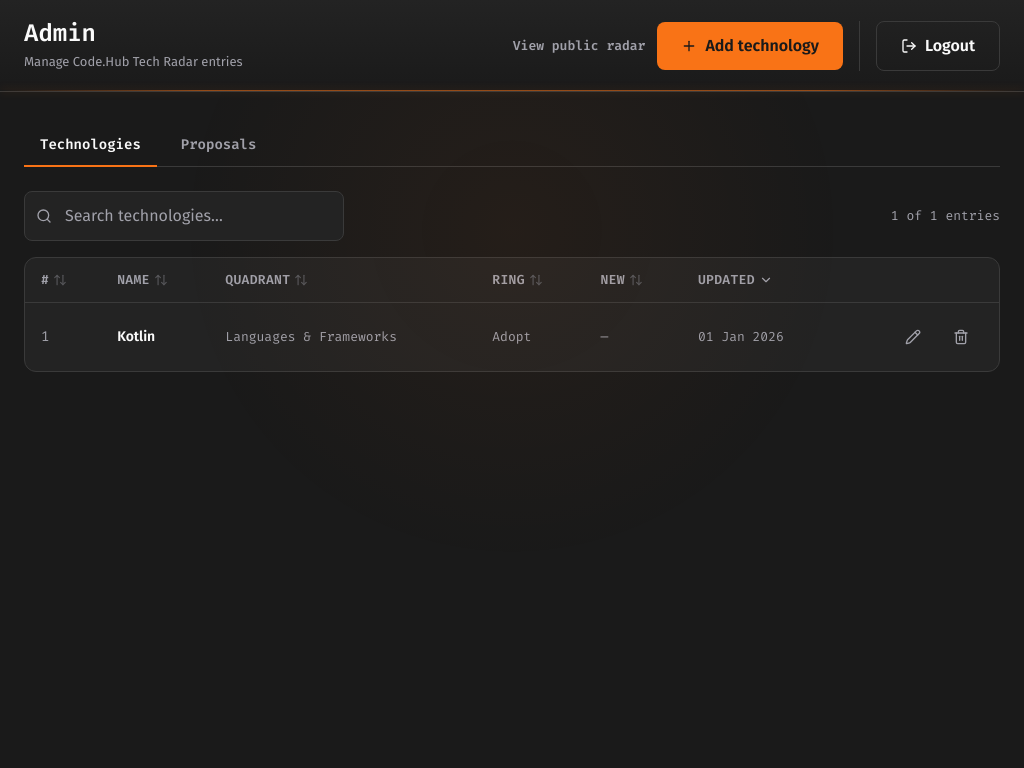
Scenario: AdminPage entry management › edits an entry pre-filled and reflects the change after refetch
Expected: the text "Kotlin" is shown, [101, 302, 209, 371]
Click the button named "Edit Kotlin" at [913, 337], box [891, 315, 935, 359]
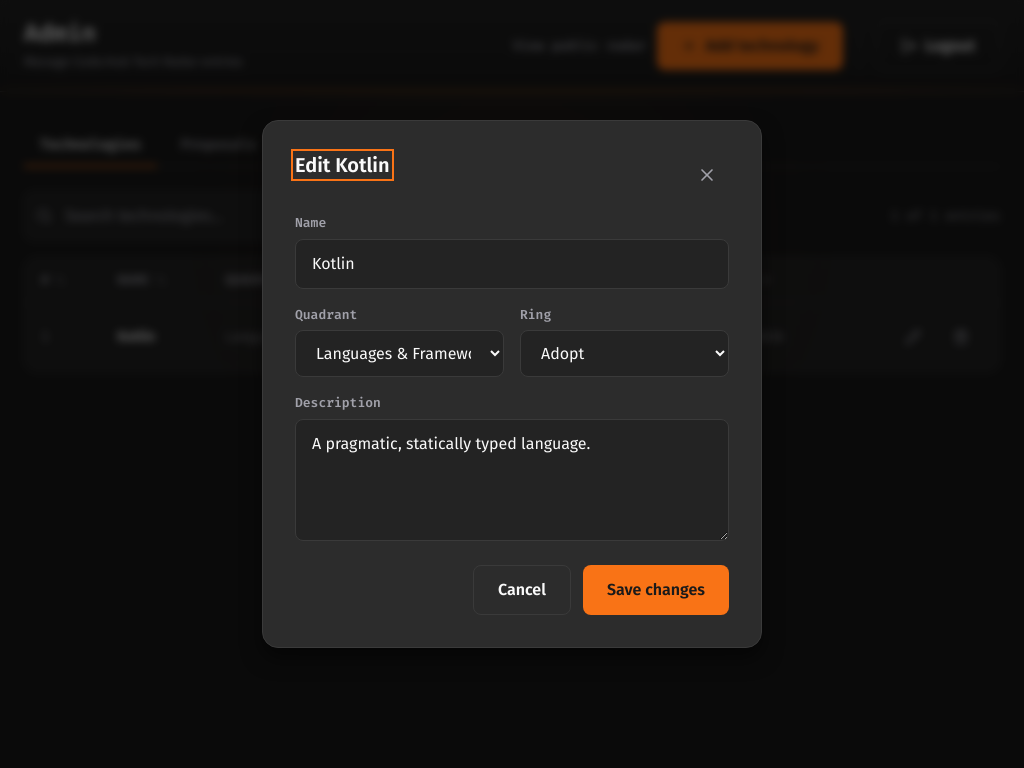
Now the field labelled "Name" holds "Kotlin", box [295, 239, 729, 289]
Select "Trial" in the dropdown labelled "Ring" at [624, 354], box [520, 330, 729, 377]
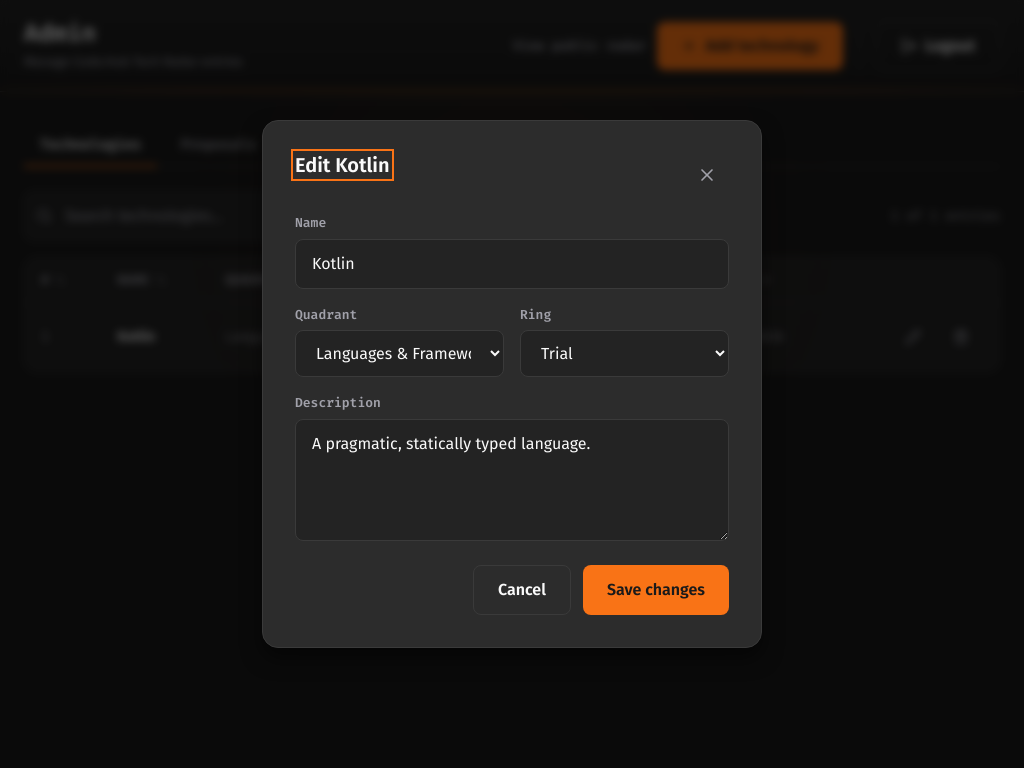
Click the button "Save changes" at [656, 590], box [583, 565, 729, 615]
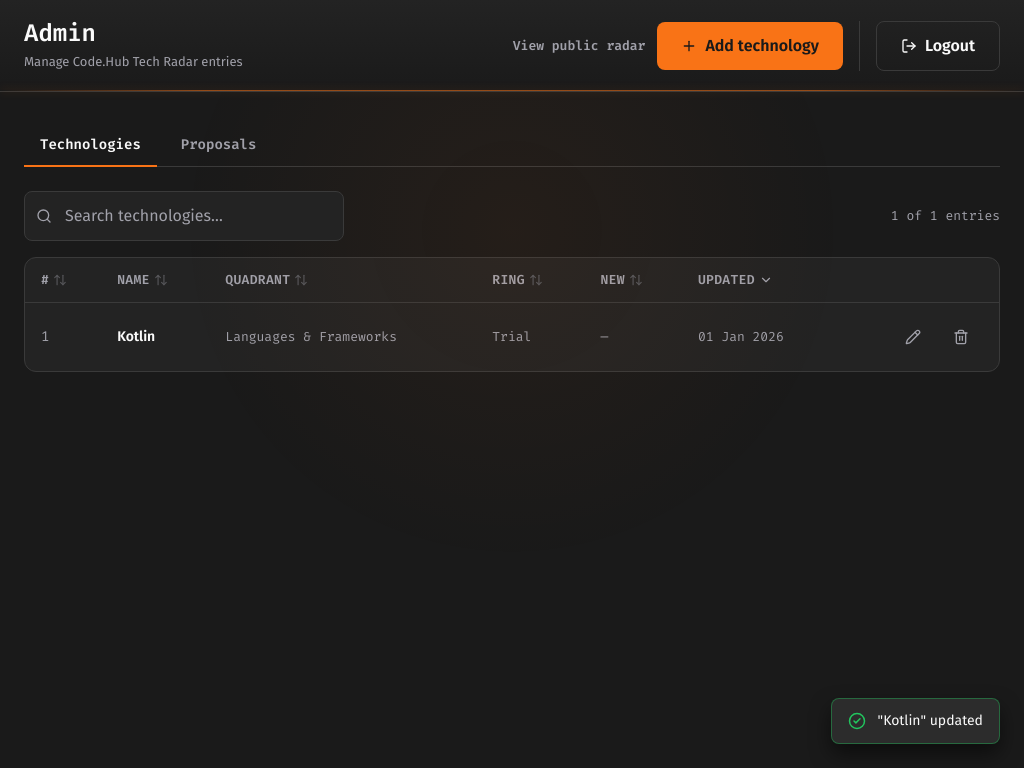
Now the message reads "\"Kotlin\" updated", box [878, 712, 983, 729]
